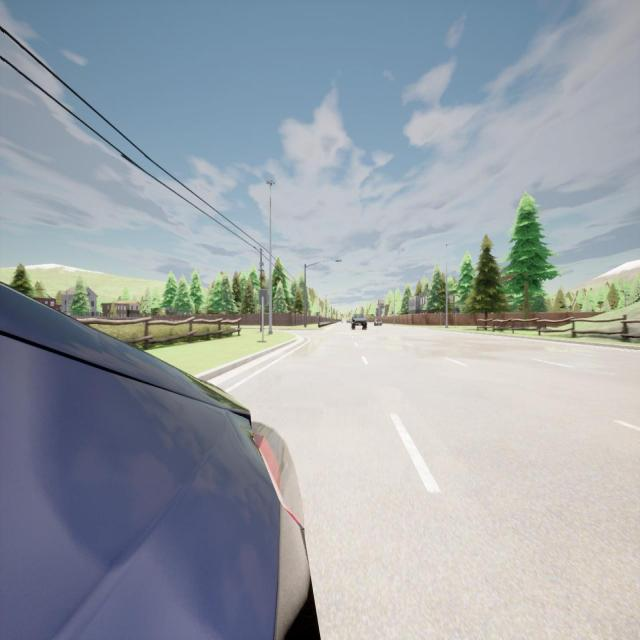Traffic_Signs: (259, 290, 268, 305)
Vehicle: (0, 279, 318, 638), (351, 313, 367, 330), (373, 318, 382, 326)
